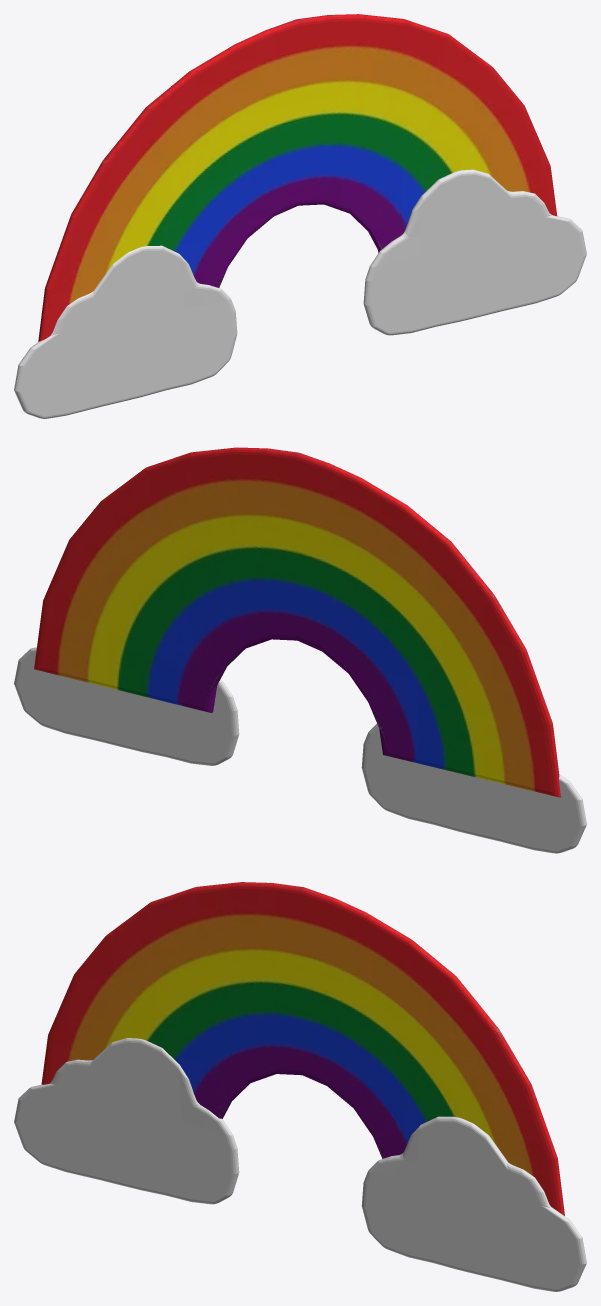
File: Rainbow.fbx
3 renders of one model, top to bottom at view 1: azimuth 30°, elevation 25°; view 2: azimuth 150°, elevation 25°; view 3: azimuth 330°, elevation 25°, orthographic.
Parts seen in each view (by area): view 1: Rug.002, Rug.016, Rug.003; view 2: Rug.002, Rug.003, Rug.016; view 3: Rug.002, Rug.016, Rug.003.
Boxes of the visible parts, x1,y1,x2,y2 form: Rug.002: (38, 14, 557, 341); Rug.016: (363, 169, 586, 335); Rug.003: (14, 245, 237, 418); Rug.002: (34, 447, 560, 797); Rug.003: (361, 723, 586, 853); Rug.016: (14, 647, 239, 765); Rug.002: (41, 882, 564, 1215); Rug.016: (361, 1116, 586, 1291); Rug.003: (14, 1038, 239, 1204).
Size of the model in its own units: 437 by 247 by 9.91.
2 materials, 1 textured.
